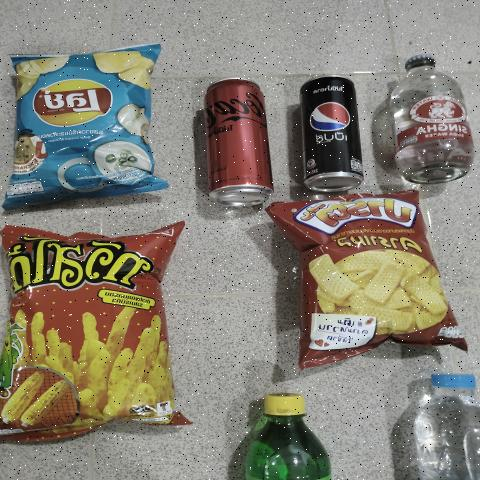coke_red: (211, 80, 267, 200)
lay_blue: (25, 62, 147, 182)
party_red: (290, 197, 439, 353)
pepsi_black: (298, 72, 361, 190)
singha_soda: (384, 55, 471, 181)
twisco: (0, 233, 176, 431)
